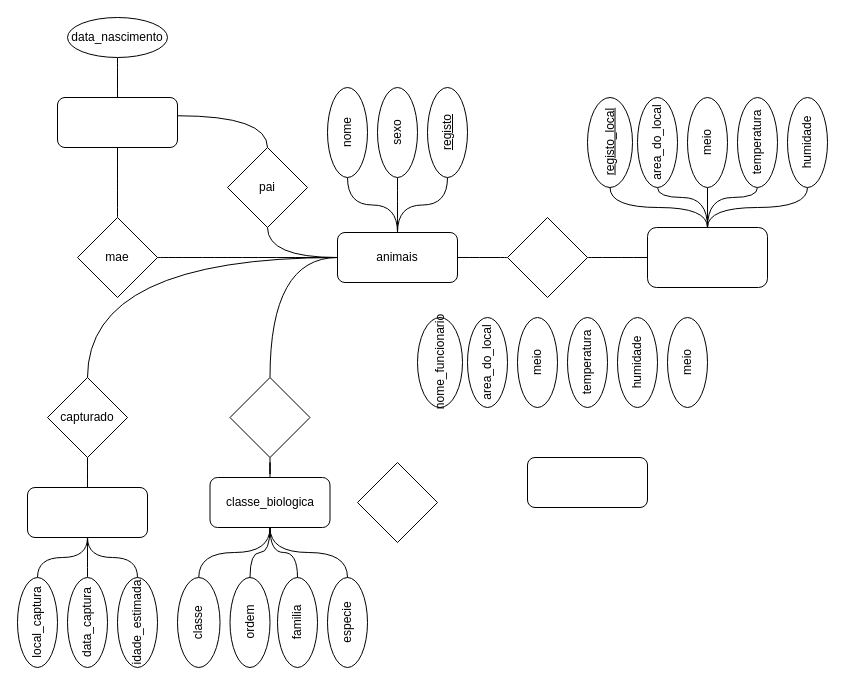
Some shapes in this 845 by 685 pixel diagram are drawn without their labels. The centre of each missing label's shape, as x and y in pixels:
"captura" belongs at point 87,512.
"espaços" belongs at point 707,257.
"funcionario" belongs at point 587,482.
"local" belongs at point 547,257.
"pertence" belongs at point 269,417.
"progenitores" belongs at point 117,122.
"tratador" belongs at point 397,502.
